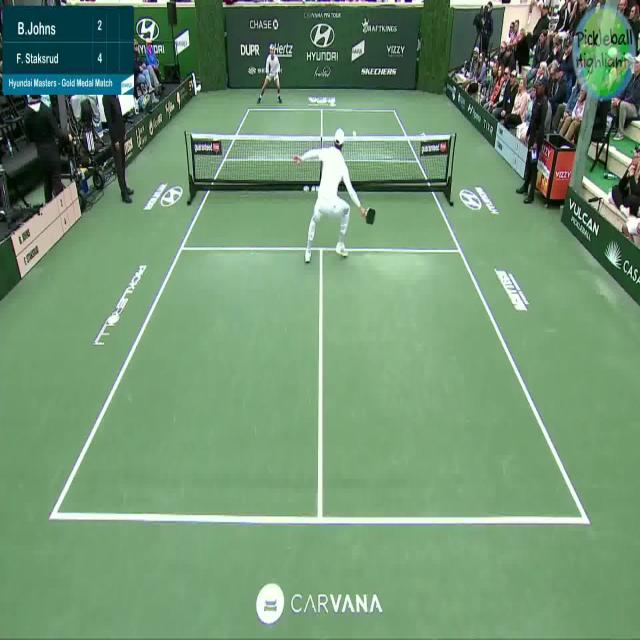ball: (352, 128, 357, 138)
